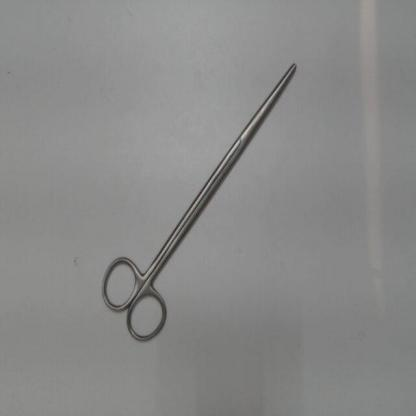9 Metzenbaum Scissors: (93, 55, 302, 352)
